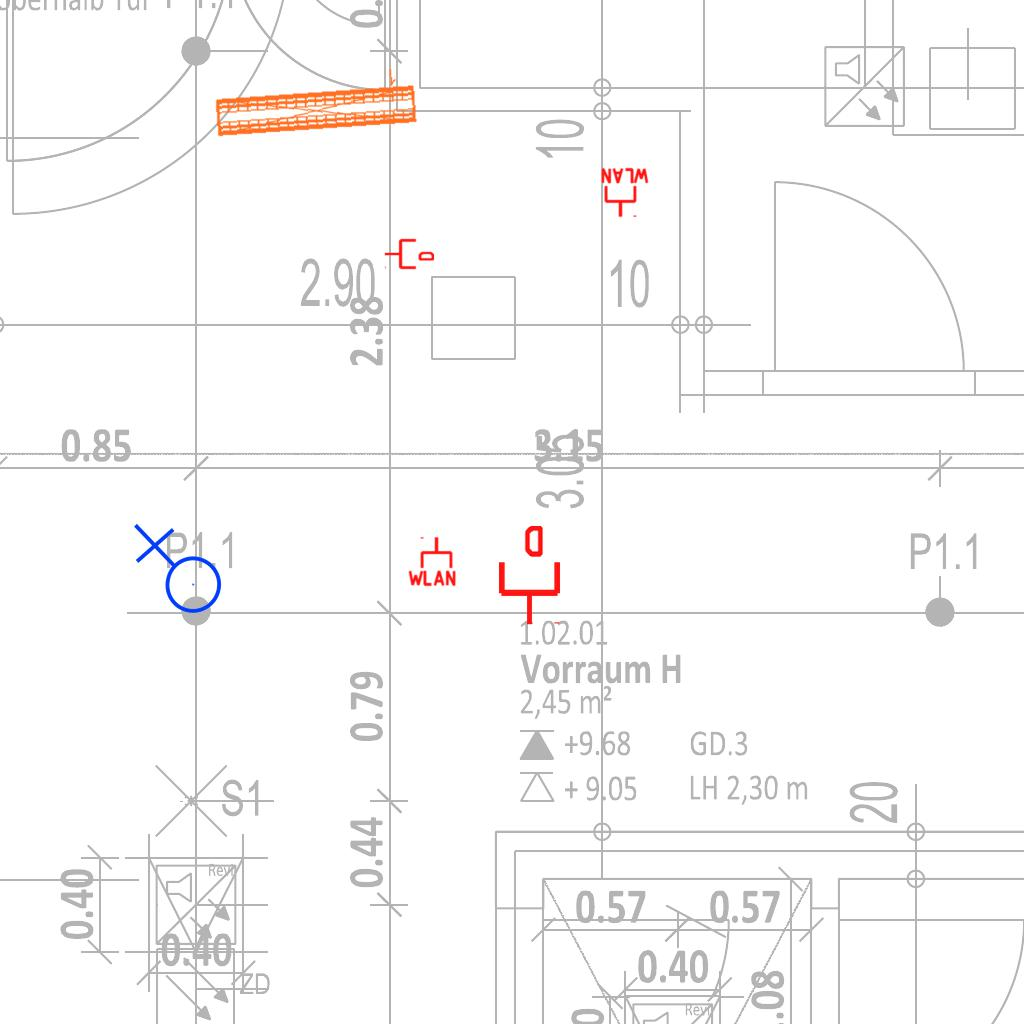Buero_Pendelleuchten_LED: (209, 61, 421, 142)
Datenanschluss_einfach: (495, 526, 564, 626), (384, 237, 434, 271)
Elektroanschluss_allgemein_230V_Geraeteanschlussdose_230V: (129, 523, 223, 622)
WLAN: (599, 167, 651, 219), (406, 535, 458, 587)
